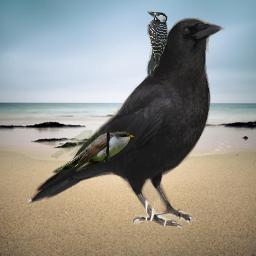Crow: (28, 14, 225, 229)
Cuckoo: (51, 130, 134, 173)
Woodpecker: (146, 10, 169, 76)
